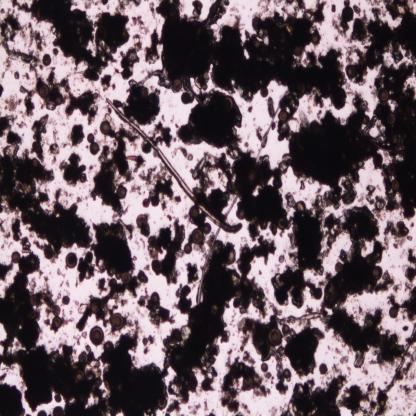Background material: (154, 0, 349, 112), (164, 240, 235, 401), (277, 107, 382, 199), (7, 2, 130, 80), (0, 148, 92, 251), (0, 347, 108, 414), (372, 63, 416, 219), (321, 206, 390, 302), (345, 1, 416, 85), (102, 334, 169, 416), (320, 308, 406, 366), (0, 255, 52, 347), (284, 193, 340, 271), (282, 375, 375, 416), (185, 94, 245, 157), (92, 128, 133, 216), (234, 236, 276, 312), (221, 361, 269, 412), (148, 221, 186, 284), (92, 220, 137, 273), (383, 324, 416, 396), (99, 271, 148, 306), (270, 267, 310, 307), (236, 315, 278, 353), (124, 80, 160, 122), (138, 166, 175, 200), (66, 92, 101, 124), (0, 374, 26, 416), (115, 42, 141, 78), (382, 220, 414, 248), (59, 155, 87, 186), (381, 2, 416, 22), (76, 251, 95, 285), (173, 284, 193, 314), (400, 286, 416, 323), (148, 304, 174, 326), (152, 121, 174, 147), (75, 303, 94, 333), (19, 84, 36, 117), (145, 28, 159, 66), (31, 115, 49, 143), (351, 18, 368, 44), (0, 112, 16, 135), (131, 16, 149, 36), (172, 147, 194, 163), (185, 263, 199, 286), (54, 272, 74, 287), (142, 337, 157, 356), (71, 126, 85, 146), (6, 131, 24, 146), (164, 399, 181, 414), (11, 220, 23, 241), (253, 121, 265, 142), (100, 75, 116, 90), (137, 286, 149, 306), (21, 237, 34, 255), (0, 262, 13, 280), (192, 0, 204, 18), (366, 183, 376, 204), (186, 402, 202, 414), (405, 265, 416, 282), (137, 270, 149, 284), (407, 247, 416, 265), (98, 277, 108, 293), (128, 0, 142, 10), (386, 293, 398, 304), (50, 145, 61, 155), (51, 46, 60, 58), (74, 333, 82, 346), (174, 194, 182, 203), (0, 220, 5, 234), (0, 84, 5, 98), (247, 106, 254, 115), (14, 72, 20, 80), (82, 331, 88, 339), (330, 5, 336, 13), (401, 325, 408, 331), (258, 268, 262, 276)
Cellulose filter fibre: (0, 27, 39, 62), (263, 343, 289, 394), (274, 314, 330, 328)
Diatom: (89, 326, 104, 346), (268, 328, 283, 348), (245, 166, 259, 186), (293, 81, 306, 99), (136, 213, 150, 229), (191, 229, 205, 244), (110, 316, 124, 331), (342, 6, 354, 23), (116, 184, 127, 202), (242, 376, 254, 392), (66, 252, 77, 269), (377, 88, 390, 102), (87, 300, 101, 313), (150, 258, 161, 274), (346, 65, 358, 79), (38, 83, 48, 99), (157, 397, 169, 410), (277, 217, 288, 231), (373, 264, 382, 281), (387, 110, 396, 127), (100, 121, 110, 136), (150, 291, 161, 304), (74, 370, 85, 383), (278, 108, 288, 122), (52, 316, 62, 330), (171, 328, 181, 342), (11, 251, 21, 265), (89, 142, 99, 156), (42, 53, 52, 67), (180, 92, 192, 103), (236, 208, 246, 221), (373, 154, 383, 167), (313, 287, 323, 300), (202, 379, 212, 392), (151, 194, 160, 208), (122, 271, 131, 285), (319, 362, 328, 376), (31, 141, 42, 152), (78, 353, 89, 364), (389, 306, 399, 318), (391, 180, 401, 192), (260, 361, 270, 373), (310, 32, 320, 44), (190, 206, 200, 218), (252, 18, 262, 30), (378, 396, 386, 411), (45, 247, 54, 260), (388, 165, 398, 176), (183, 244, 193, 255), (172, 80, 182, 91), (202, 224, 212, 235), (335, 261, 344, 273), (282, 325, 291, 336), (52, 408, 64, 416), (8, 100, 16, 112), (87, 132, 95, 144), (260, 88, 270, 97), (53, 305, 61, 316), (224, 394, 232, 405), (62, 296, 70, 306), (37, 408, 47, 416), (52, 132, 57, 145), (56, 96, 63, 105), (284, 368, 290, 378)
